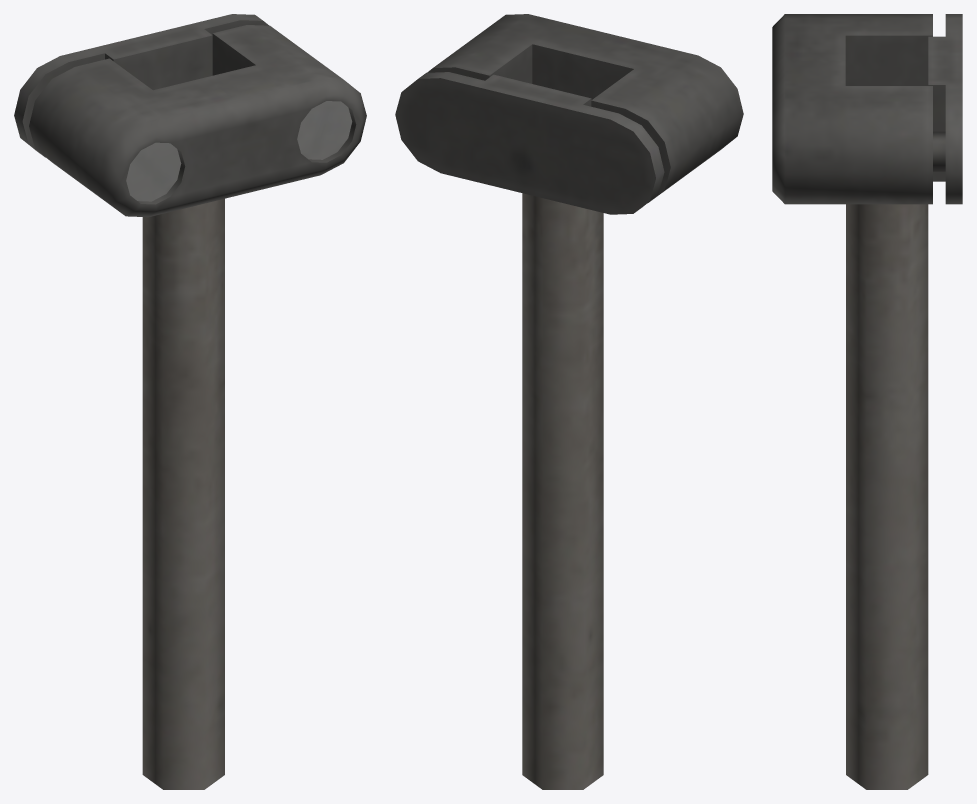
File: cable_cable_straight_short.fbx
The picture shows the model from 3 angles, left to right: view 1: azimuth 30°, elevation 25°; view 2: azimuth 150°, elevation 25°; view 3: azimuth 270°, elevation 25°; orthographic projection.
Parts seen in each view (by area): view 1: modular_electric_cables__cable_straight_short; view 2: modular_electric_cables__cable_straight_short; view 3: modular_electric_cables__cable_straight_short.
Part boxes in pixels (x1,y1,x2,y2): modular_electric_cables__cable_straight_short: [14, 14, 366, 789]; modular_electric_cables__cable_straight_short: [395, 14, 743, 789]; modular_electric_cables__cable_straight_short: [772, 14, 962, 789].
Bounding box in the file's own units: 0.0416 × 0.1073 × 0.0259.
